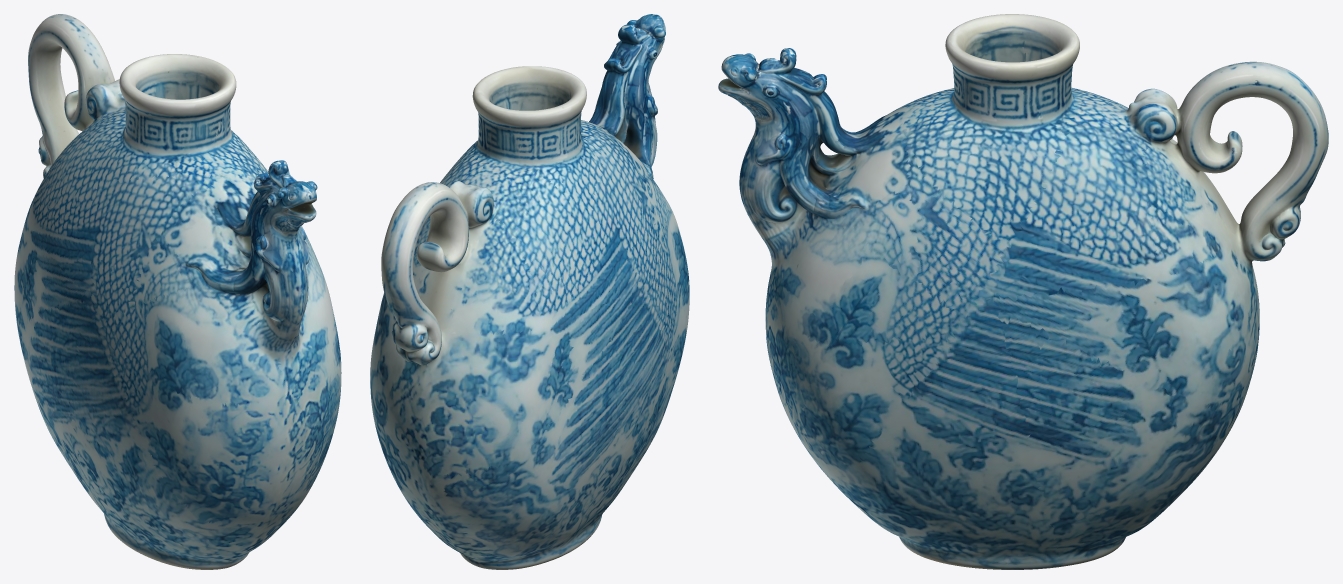
File: phoenix-desktop.glb
3 renders of one model, left to right at view 1: azimuth 30°, elevation 25°; view 2: azimuth 150°, elevation 25°; view 3: azimuth 270°, elevation 25°, orthographic. The views are drawn at different scales.
Visible parts, largest first — view 1: tripo_node_07039654-0ade-49d4-918f-1af4125001a4.001; view 2: tripo_node_07039654-0ade-49d4-918f-1af4125001a4.001; view 3: tripo_node_07039654-0ade-49d4-918f-1af4125001a4.001.
Part boxes in pixels (left/top/right/bottom): tripo_node_07039654-0ade-49d4-918f-1af4125001a4.001: left=14, top=14, right=341, bottom=569; tripo_node_07039654-0ade-49d4-918f-1af4125001a4.001: left=370, top=14, right=689, bottom=569; tripo_node_07039654-0ade-49d4-918f-1af4125001a4.001: left=718, top=14, right=1328, bottom=569.
Size of the model in its own units: 0.4213 by 0.8936 by 0.9792.
1 material, 1 textured.
